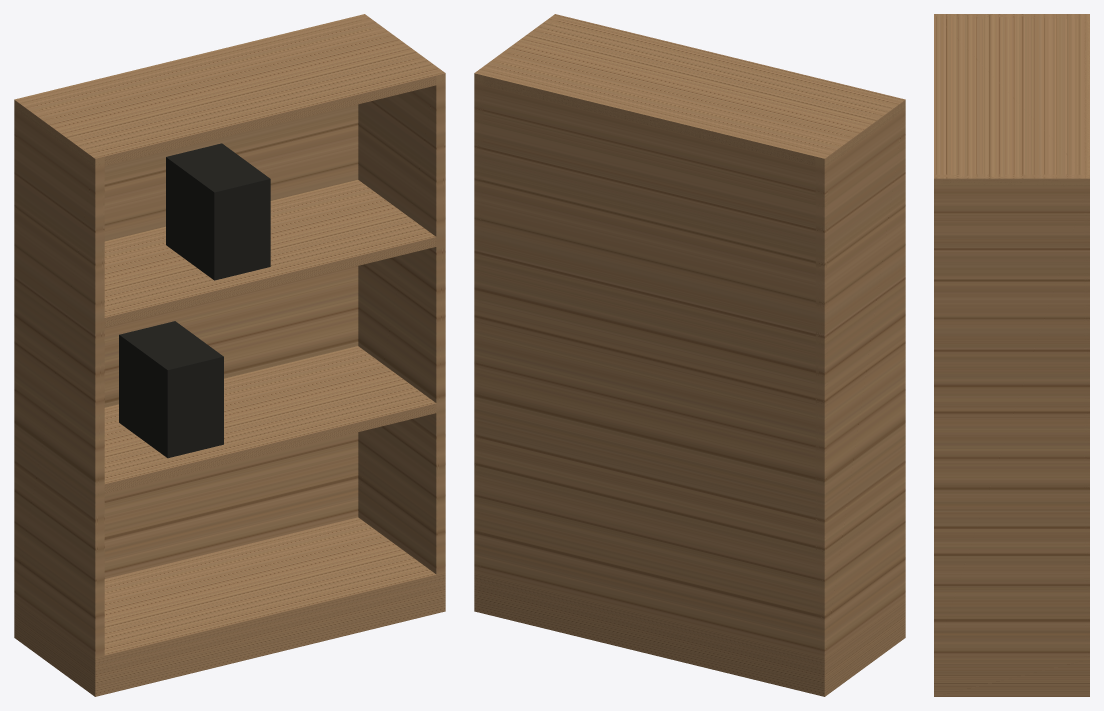
3 renders of one model, left to right at view 1: azimuth 30°, elevation 25°; view 2: azimuth 150°, elevation 25°; view 3: azimuth 270°, elevation 25°, orthographic. The views are drawn at different scales.
Parts seen in each view (by area): view 1: CabinetRoot; view 2: CabinetRoot; view 3: CabinetRoot.
Boxes of the visible parts, left/top/right/bottom form: CabinetRoot: left=14, top=14, right=445, bottom=696; CabinetRoot: left=474, top=14, right=905, bottom=696; CabinetRoot: left=934, top=14, right=1089, bottom=696.
Size of the model in its own units: 0.75 by 1.1 by 0.3.
Materials: 2 (2 with a texture image).
